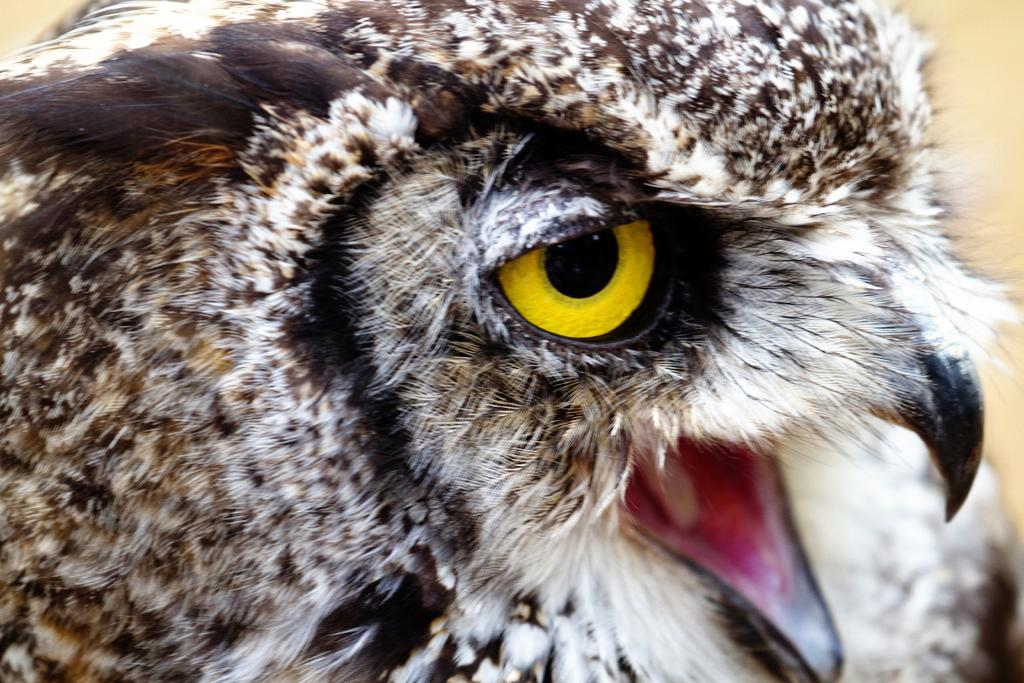Owl: (67, 64, 1001, 663)
